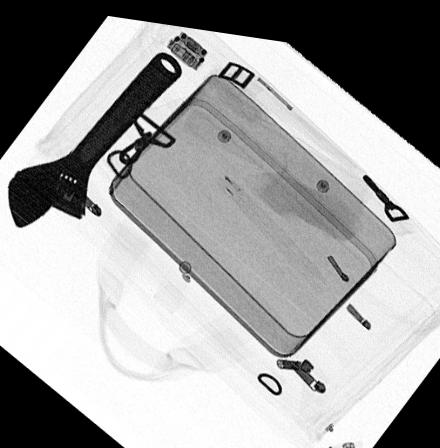Wrench: (1, 44, 184, 233)
